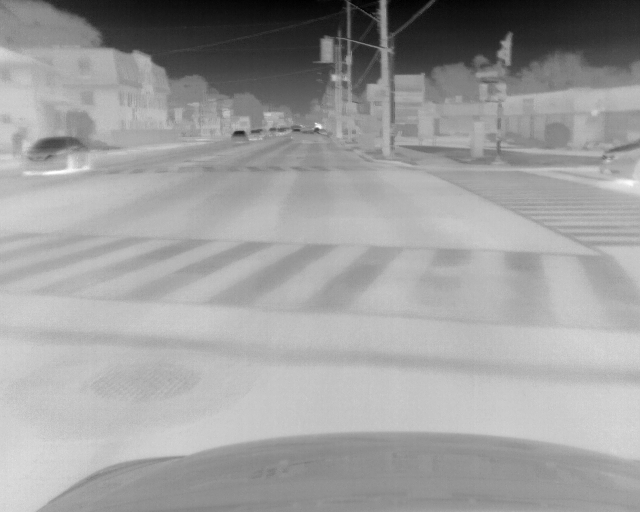car: (17, 135, 89, 174), (599, 137, 640, 189), (230, 130, 248, 144), (248, 129, 264, 142), (276, 126, 289, 138), (290, 124, 302, 134), (267, 125, 276, 137)
